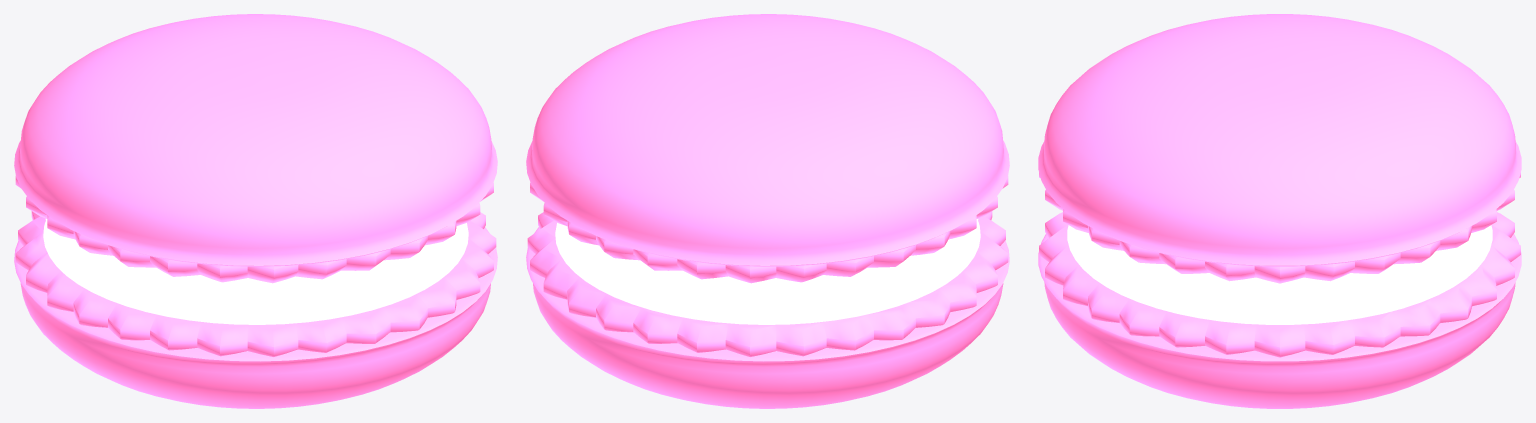
3 renders of one model, left to right at view 1: azimuth 30°, elevation 25°; view 2: azimuth 150°, elevation 25°; view 3: azimuth 270°, elevation 25°, orthographic.
Parts seen in each view (by area): view 1: Macaroon-whole; view 2: Macaroon-whole; view 3: Macaroon-whole.
Boxes of the visible parts, bbox=[...] form: Macaroon-whole: bbox=[14, 14, 497, 408]; Macaroon-whole: bbox=[526, 14, 1009, 408]; Macaroon-whole: bbox=[1038, 14, 1521, 408].
Size of the model in its own units: 2.03 by 1.35 by 2.03.
